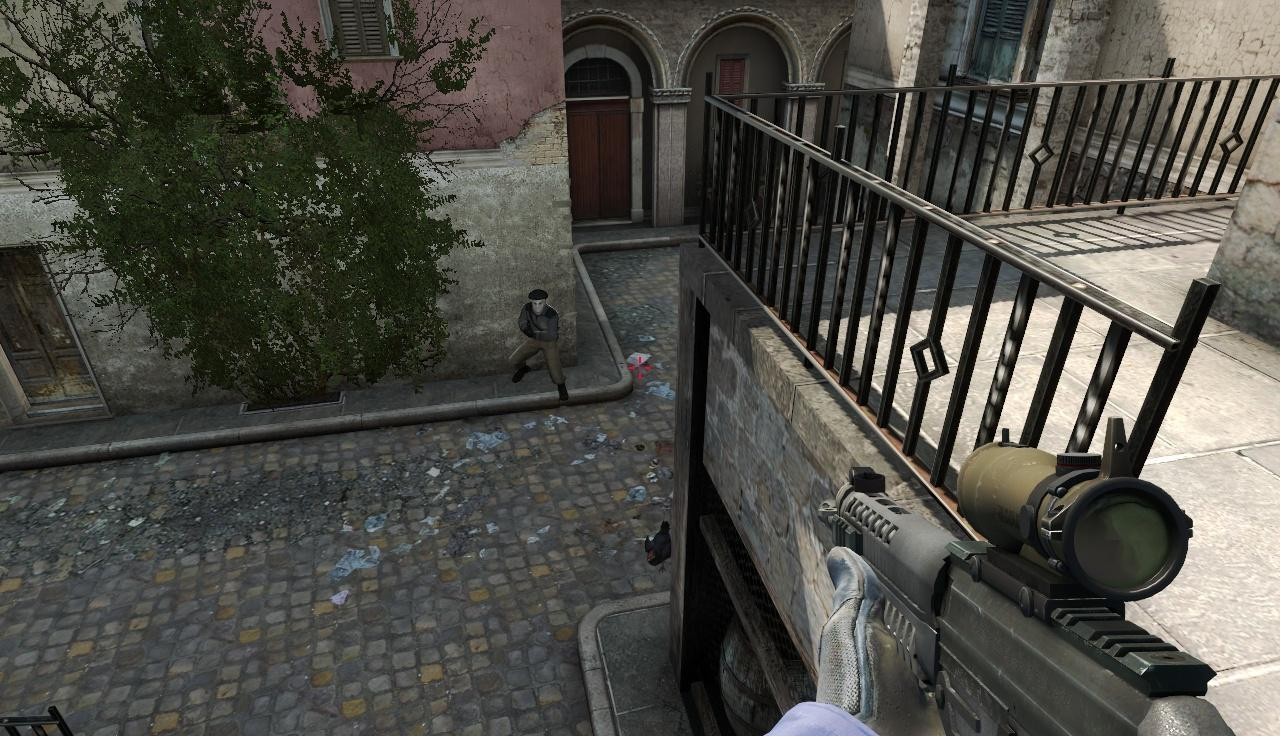rifle: (819, 424, 1238, 736)
tt: (518, 290, 560, 382), (530, 290, 547, 315)
